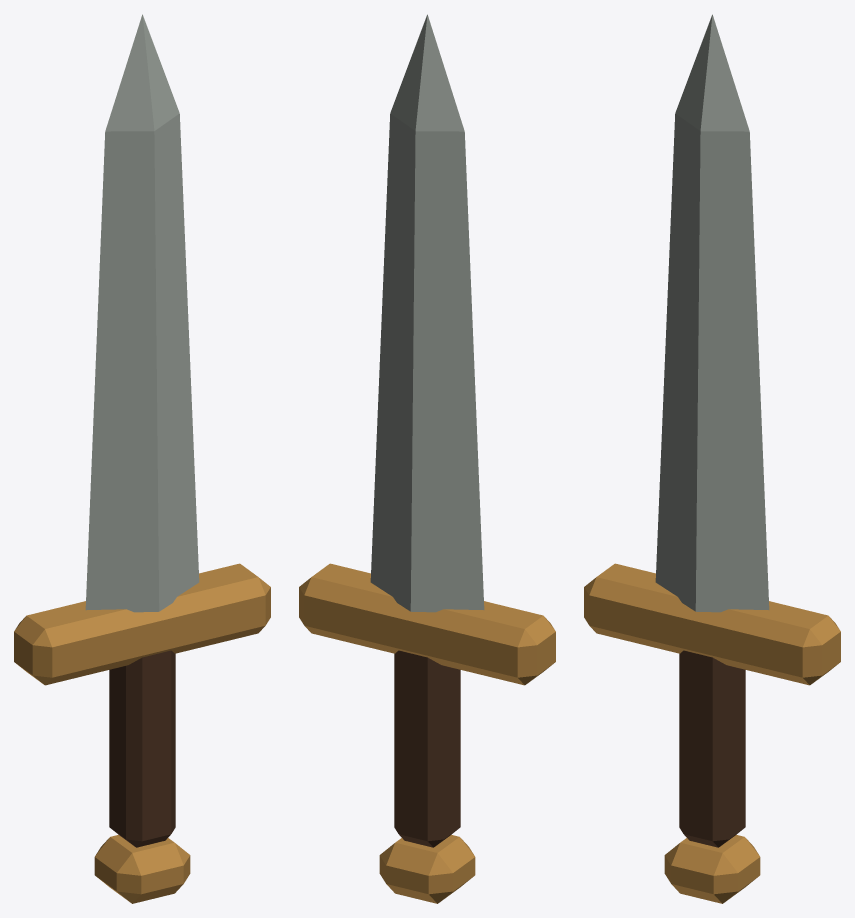
File: SM_NPC_Mainhand_01_Sword.glb
The picture shows the model from 3 angles, left to right: view 1: azimuth 30°, elevation 25°; view 2: azimuth 150°, elevation 25°; view 3: azimuth 330°, elevation 25°; orthographic projection.
Parts seen in each view (by area): view 1: SM_NPC_Mainhand_01_Sword; view 2: SM_NPC_Mainhand_01_Sword; view 3: SM_NPC_Mainhand_01_Sword.
Boxes of the visible parts, left/top/right/bottom form: SM_NPC_Mainhand_01_Sword: left=14, top=14, right=270, bottom=903; SM_NPC_Mainhand_01_Sword: left=299, top=14, right=555, bottom=903; SM_NPC_Mainhand_01_Sword: left=584, top=14, right=840, bottom=903.
Bounding box in the file's own units: 0.23 × 0.8085 × 0.067.
